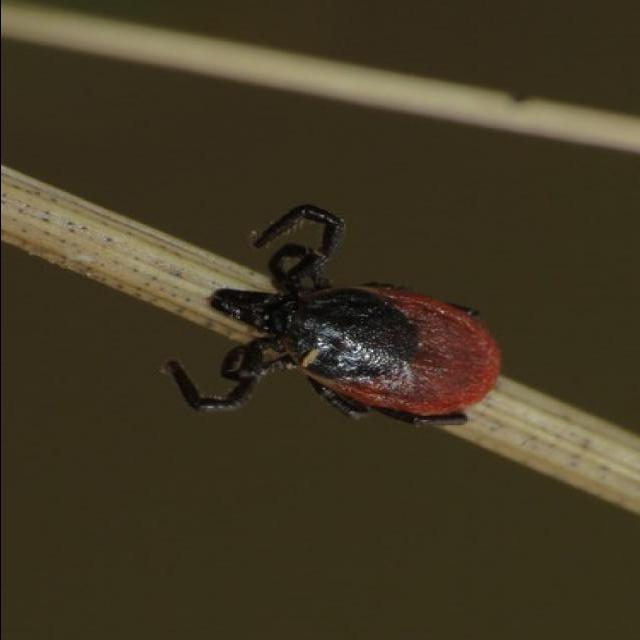Ixodes Ricinus-F: (160, 204, 500, 428)
